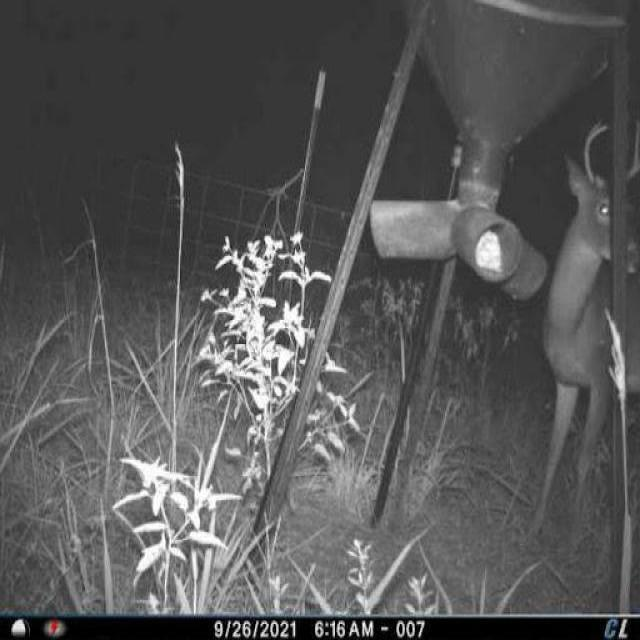deer: (536, 108, 640, 552)
